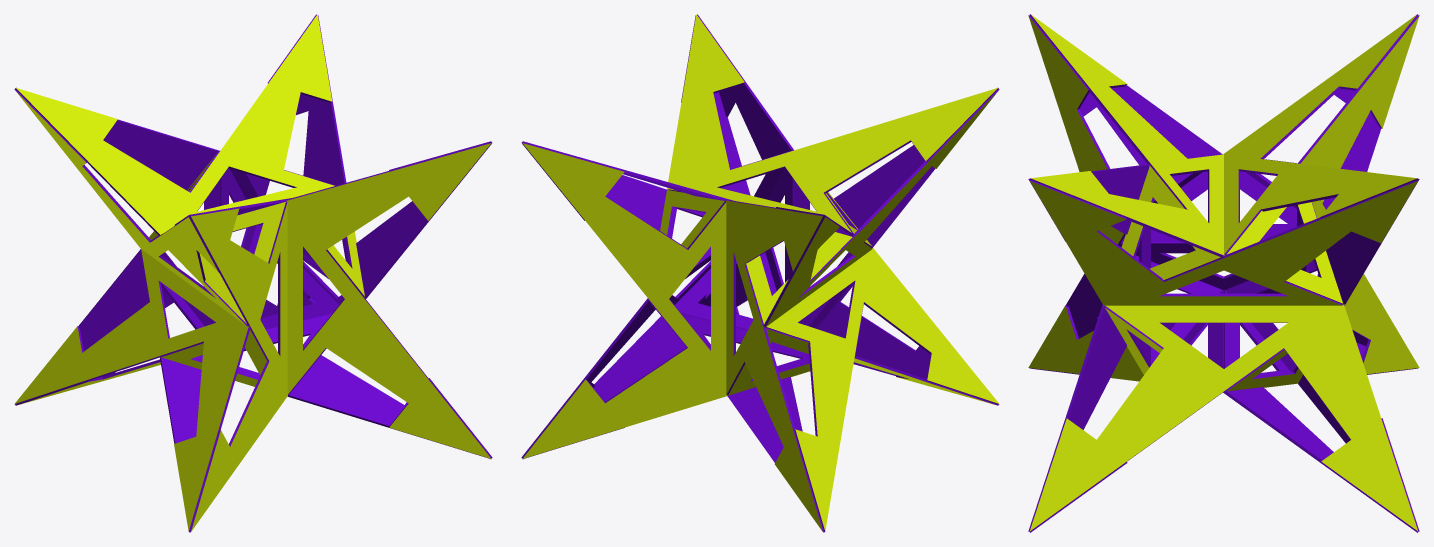
The model's file is ConcaveDodecahedronS.glb.
The picture shows the model from 3 angles, left to right: view 1: azimuth 30°, elevation 25°; view 2: azimuth 150°, elevation 25°; view 3: azimuth 270°, elevation 25°; orthographic projection. The views are drawn at different scales.
Parts seen in each view (by area): view 1: root; view 2: root; view 3: root.
Boxes of the visible parts, box(x1,y1,x2,y2) form: root: box(14, 14, 492, 532); root: box(521, 14, 999, 532); root: box(1028, 14, 1419, 532).
Size of the model in its own units: 6.5 by 6.5 by 6.5.
